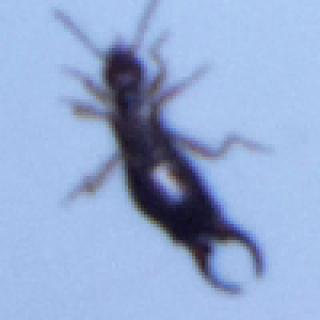earwig: (47, 3, 280, 296)
